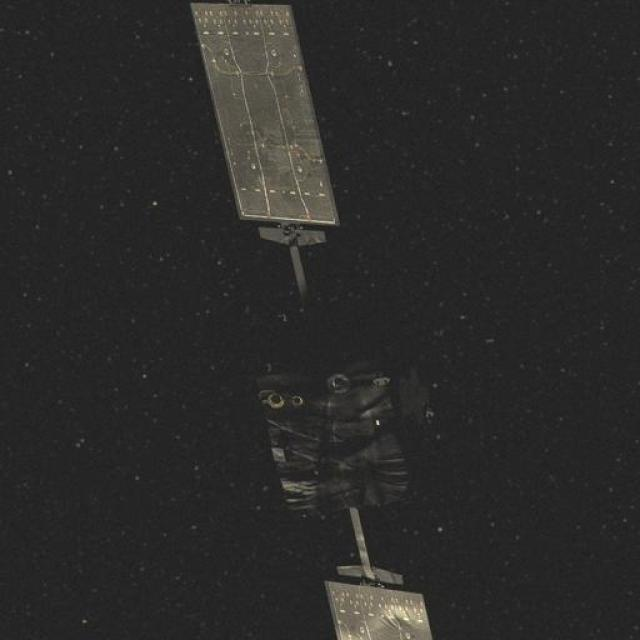smart_1: (202, 136, 470, 624)
